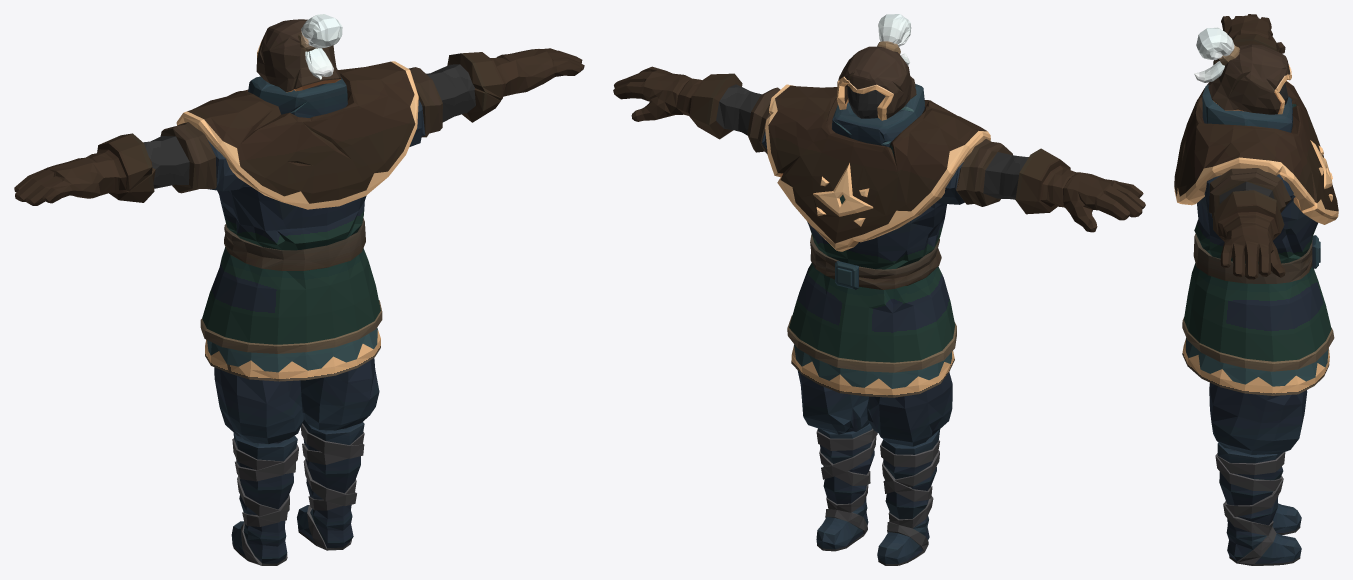
File: NPC_AP27GuardNoSword.glb
3 views of the same model, side by side, from view 1: azimuth 30°, elevation 25°; view 2: azimuth 150°, elevation 25°; view 3: azimuth 270°, elevation 25° (orthographic). The views are drawn at different scales.
Parts seen in each view (by area): view 1: NPC_AP27GuardNoSword; view 2: NPC_AP27GuardNoSword; view 3: NPC_AP27GuardNoSword.
Boxes of the visible parts, x1,y1,x2,y2 form: NPC_AP27GuardNoSword: (14, 14, 584, 565); NPC_AP27GuardNoSword: (613, 14, 1145, 565); NPC_AP27GuardNoSword: (1174, 14, 1338, 565).
Bounding box in the file's own units: 15.5 × 14.35 × 4.16.
1 material, 1 textured.
